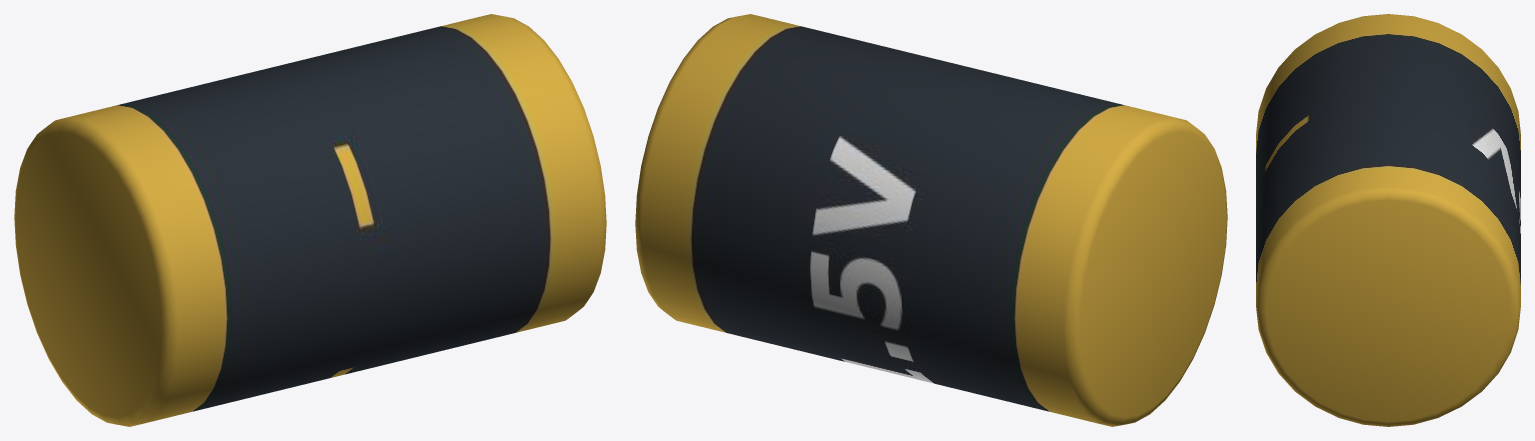
The model's file is battery.glb.
The picture shows the model from 3 angles, left to right: view 1: azimuth 30°, elevation 25°; view 2: azimuth 150°, elevation 25°; view 3: azimuth 270°, elevation 25°; orthographic projection. The views are drawn at different scales.
Parts seen in each view (by area): view 1: BatteryBody; view 2: BatteryBody; view 3: BatteryBody.
Part boxes in pixels (x1,y1,x2,y2): BatteryBody: [14, 14, 606, 426]; BatteryBody: [635, 14, 1227, 426]; BatteryBody: [1256, 14, 1520, 426].
Bounding box in the file's own units: 0.084 × 0.052 × 0.052.
Materials: 1 (1 with a texture image).
